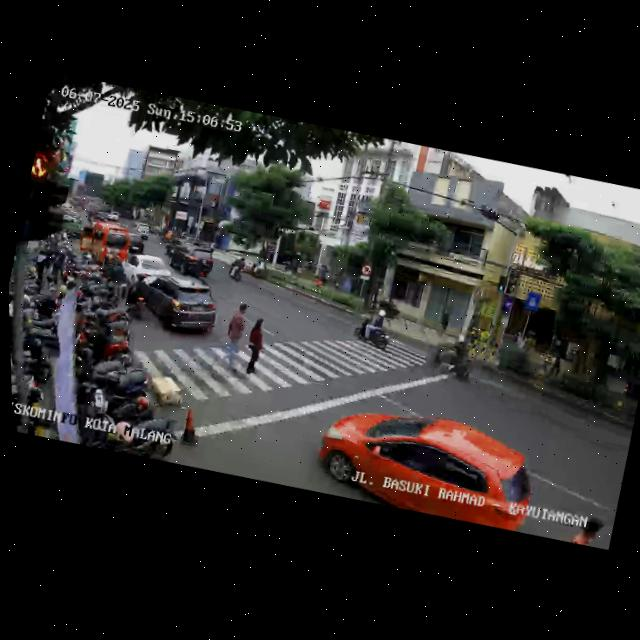car: (310, 390, 546, 539), (125, 267, 225, 346), (73, 217, 133, 273), (118, 244, 171, 289), (164, 238, 216, 282)
motorcycle: (428, 334, 480, 386), (351, 301, 395, 353), (116, 270, 155, 323), (224, 253, 249, 285)
person: (217, 299, 253, 373), (240, 314, 272, 380)
